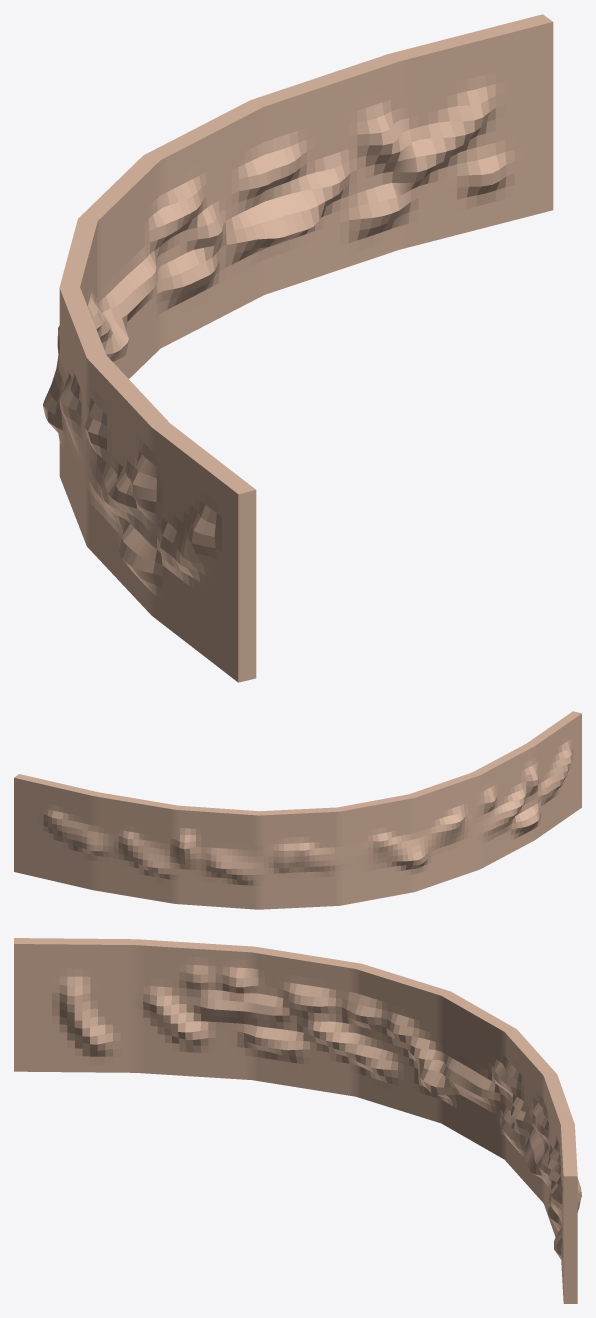
The model's file is structure_railingcurved.fbx.
3 renders of one model, top to bottom at view 1: azimuth 30°, elevation 25°; view 2: azimuth 150°, elevation 25°; view 3: azimuth 270°, elevation 25°, orthographic. The views are drawn at different scales.
Parts seen in each view (by area): view 1: railingcurved_wall_LOD0; view 2: railingcurved_wall_LOD0; view 3: railingcurved_wall_LOD0.
Boxes of the visible parts, x1,y1,x2,y2 form: railingcurved_wall_LOD0: (43,14,553,682); railingcurved_wall_LOD0: (14,711,581,909); railingcurved_wall_LOD0: (14,938,581,1303).
Size of what is drawn, in the model's own units: 407 by 100 by 403.
